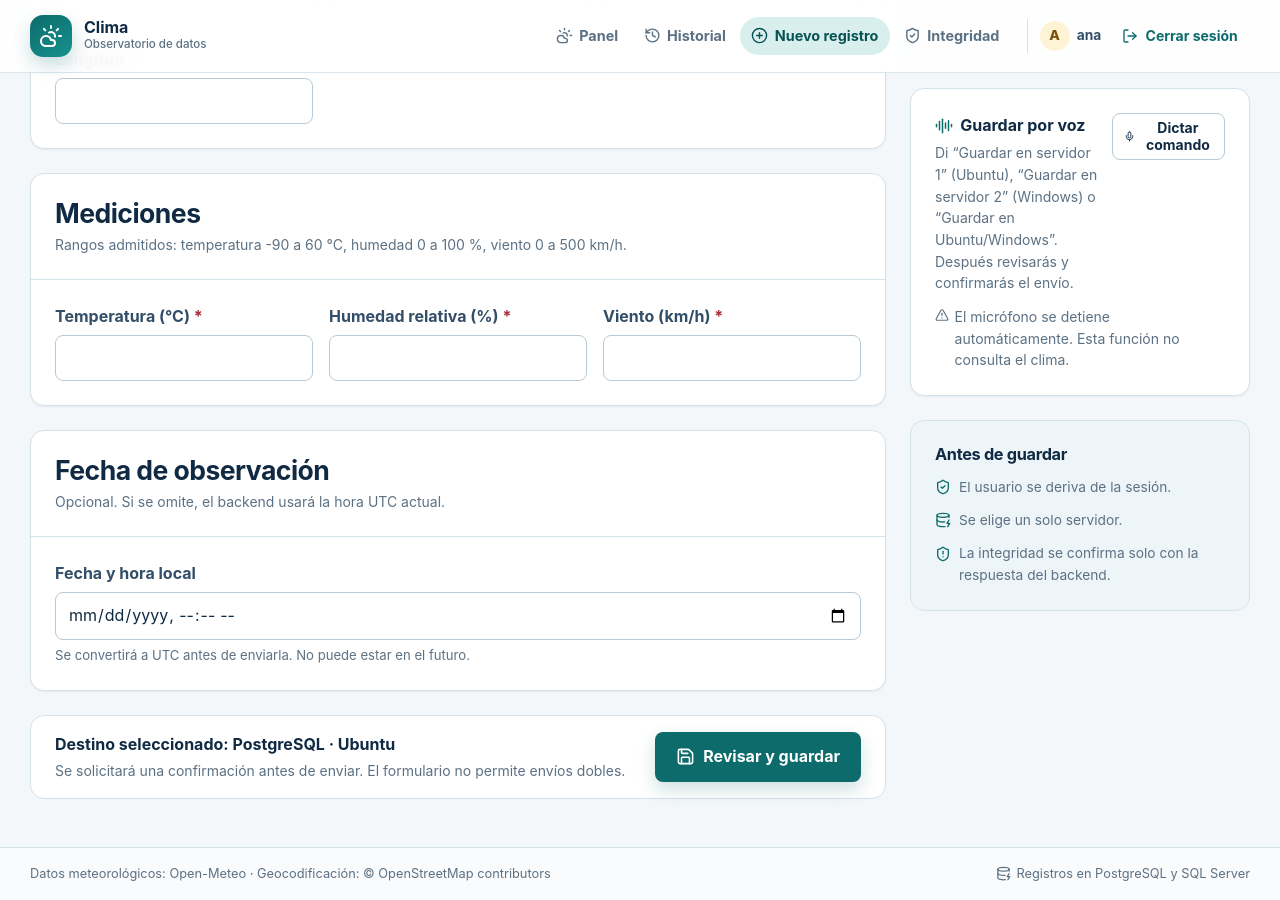
formulario de registro › valida los campos obligatorios antes de abrir la confirmación
This screenshot has width=1280, height=900.
(page scrolled)
Click the button "Revisar y guardar" at (758, 757), box [655, 732, 861, 782]
(page scrolled)
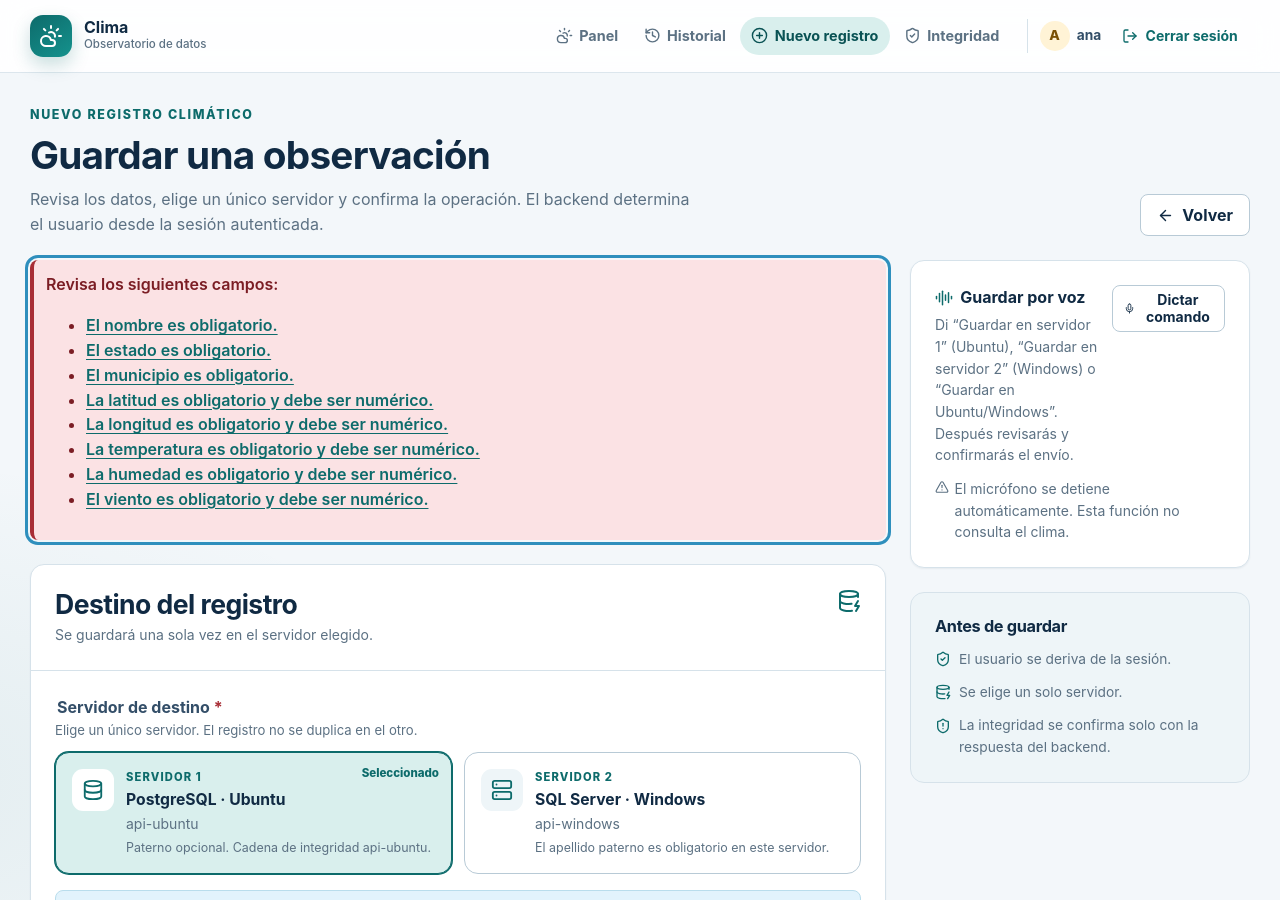
Result: the text "Revisa los siguientes campos:" is shown at [46, 274, 278, 294]
Result: the link "El nombre es obligatorio." is shown at [86, 315, 278, 335]
